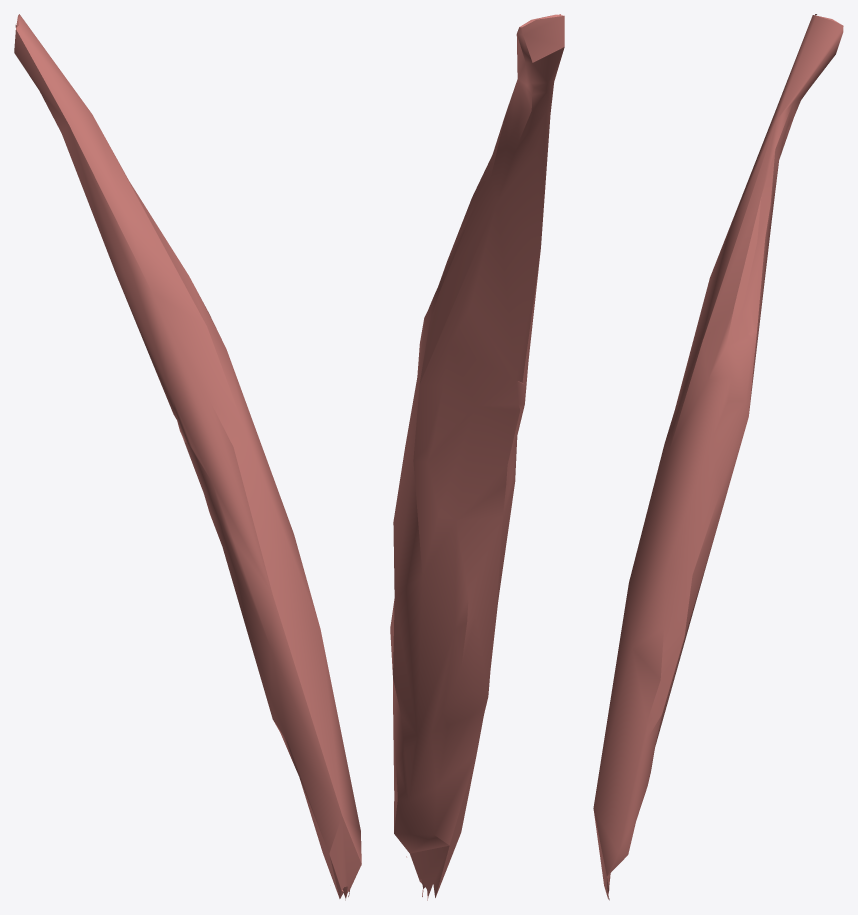
The model's file is fma37398_fj1470.glb.
3 views of the same model, side by side, from view 1: azimuth 30°, elevation 25°; view 2: azimuth 150°, elevation 25°; view 3: azimuth 270°, elevation 25° (orthographic). The views are drawn at different scales.
Visible parts, largest first — view 1: FMA37398_FJ1470; view 2: FMA37398_FJ1470; view 3: FMA37398_FJ1470.
Part boxes in pixels (left/top/right/bottom): FMA37398_FJ1470: left=14, top=14, right=361, bottom=900; FMA37398_FJ1470: left=390, top=14, right=564, bottom=900; FMA37398_FJ1470: left=593, top=14, right=843, bottom=900.
Bounding box in the file's own units: 0.0179 × 0.0602 × 0.0173.
